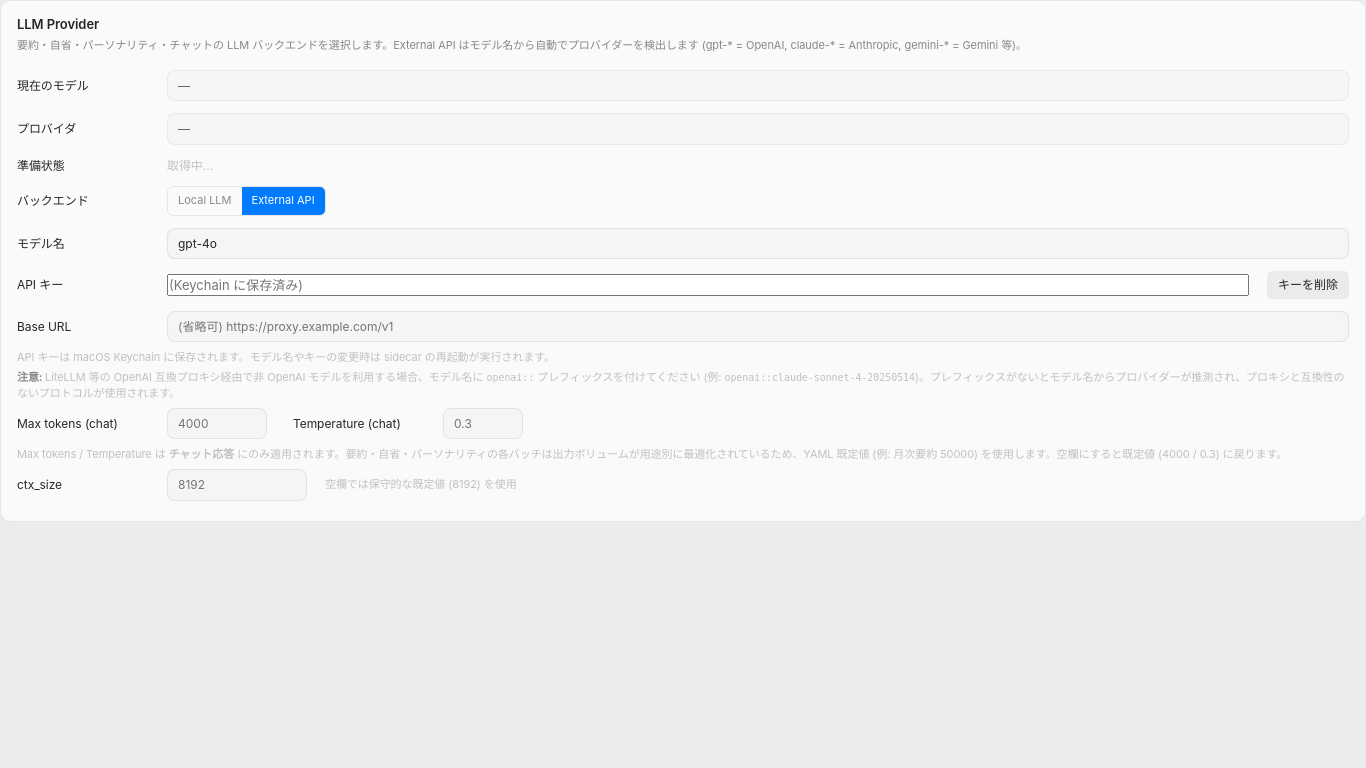
Scenario: LlmProviderCard api_key payload › reports api_key='' via the explicit Delete button (no confirm; batched into save)
Click the button "キーを削除" at (1308, 285), box [1267,271,1349,299]
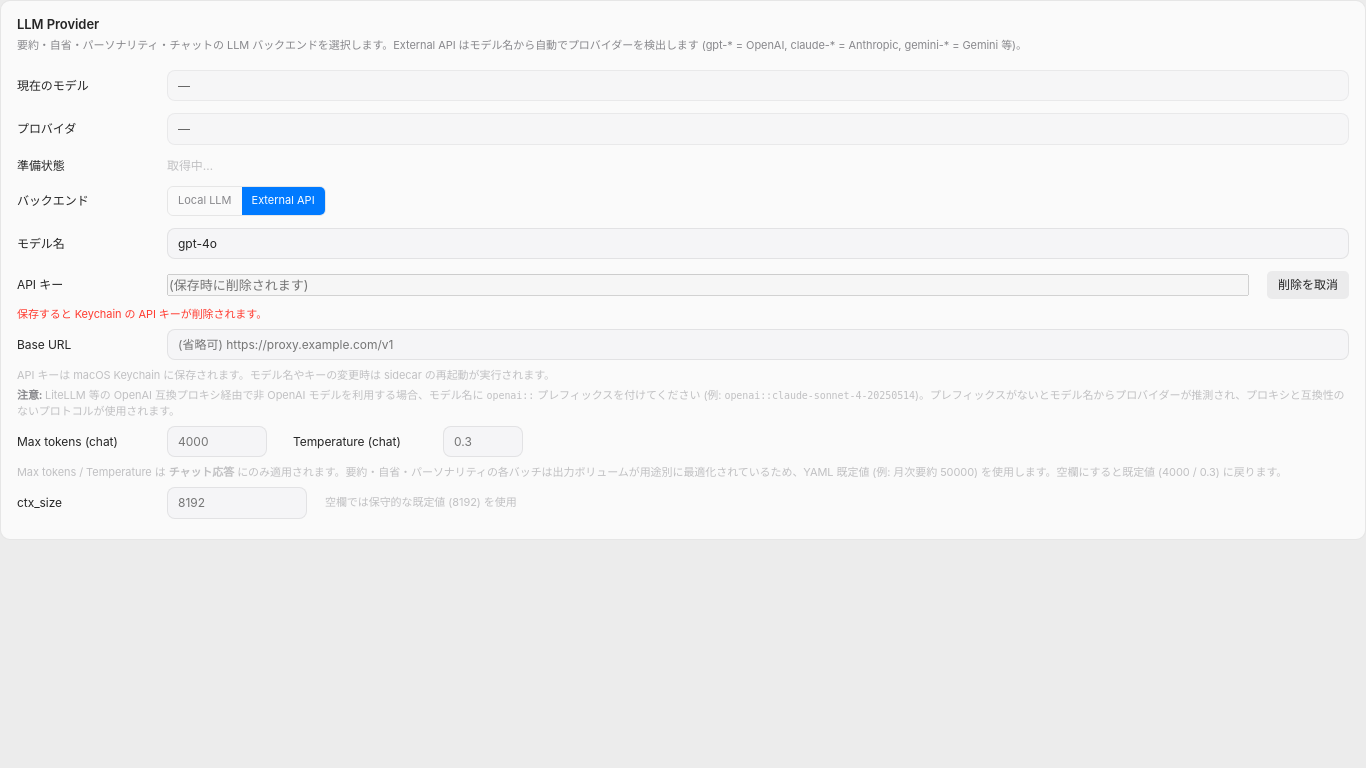
Result: the text "保存すると Keychain の API キーが削除されます。" is shown at [17,307,267,321]
